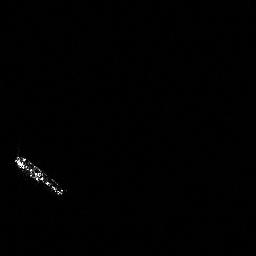ship: (12, 153, 68, 198)
